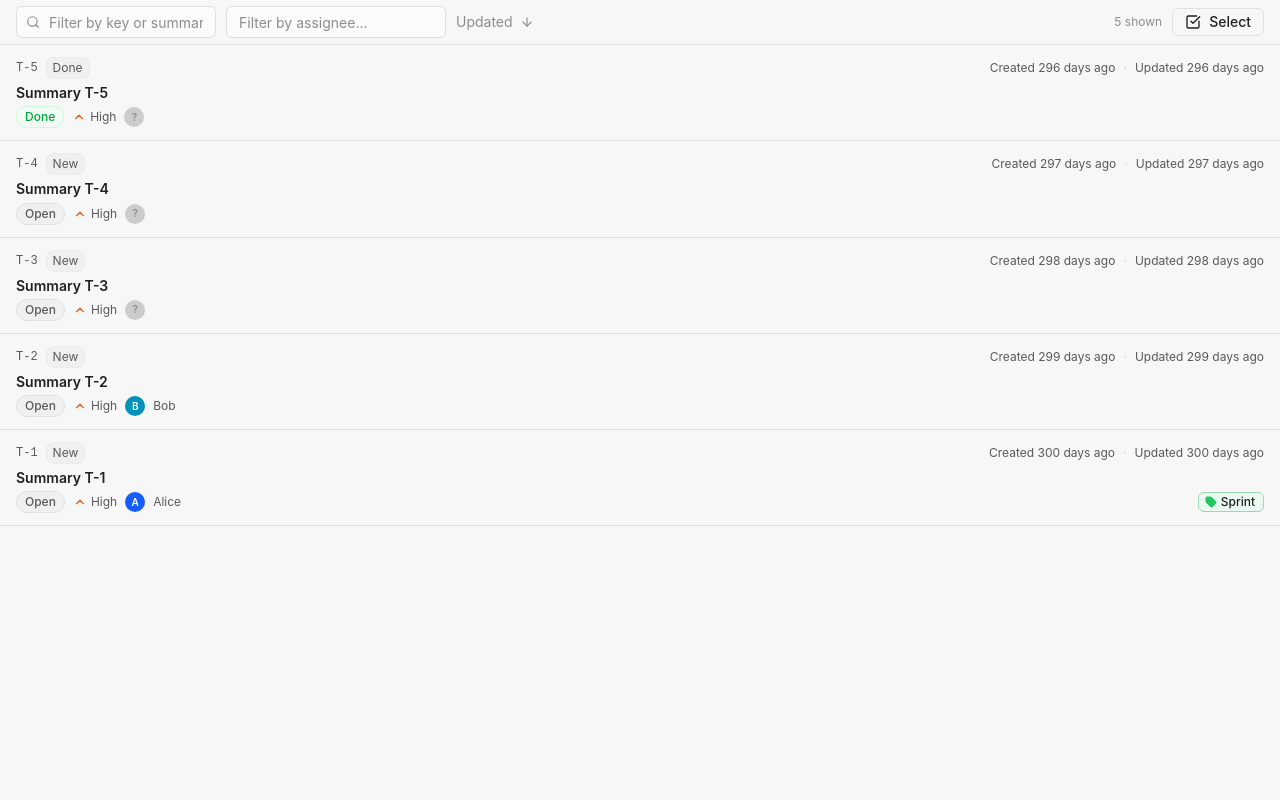
Test: GroupViewPage selection › offers Remove and an Add picker that excludes the current group
Click the button "Select". click: (1218, 22)
box: [1172,8,1264,36]
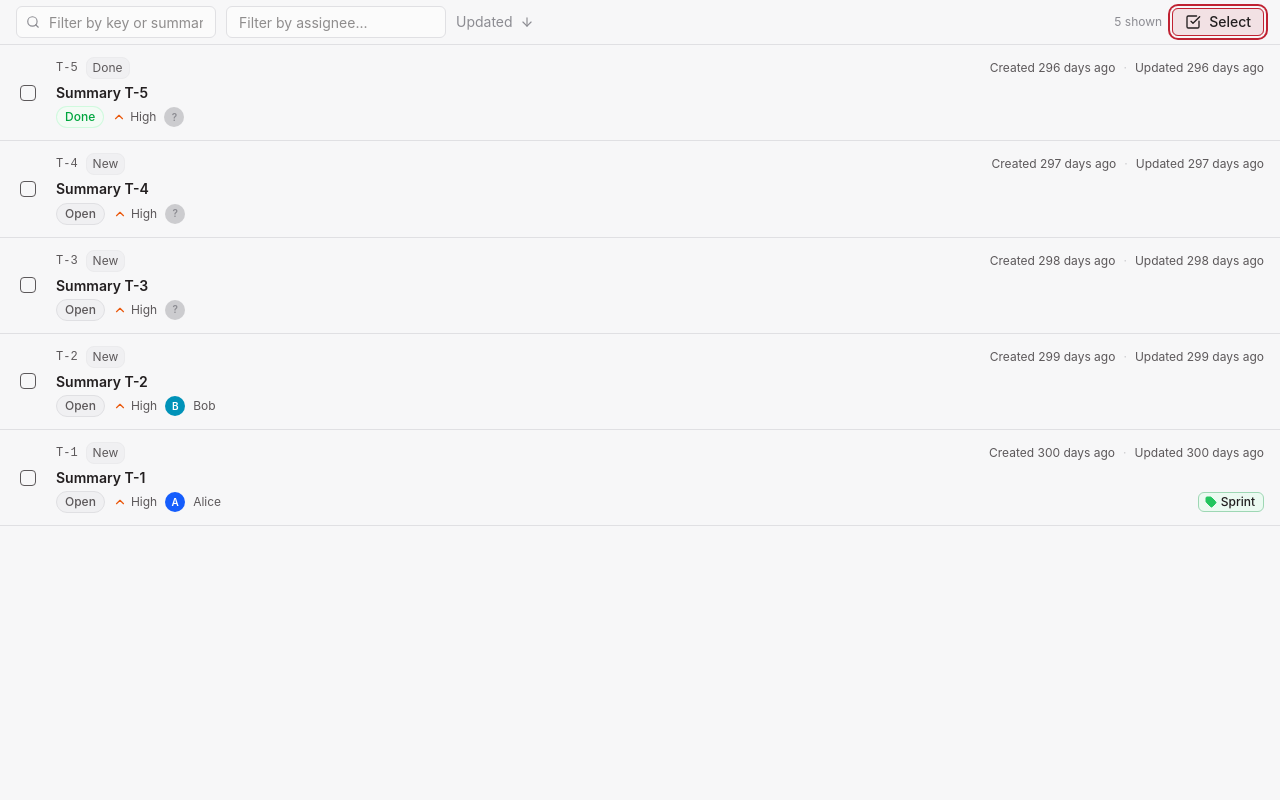
Click the button named "Summary T-1". click: (640, 478)
box: [0,430,1279,525]
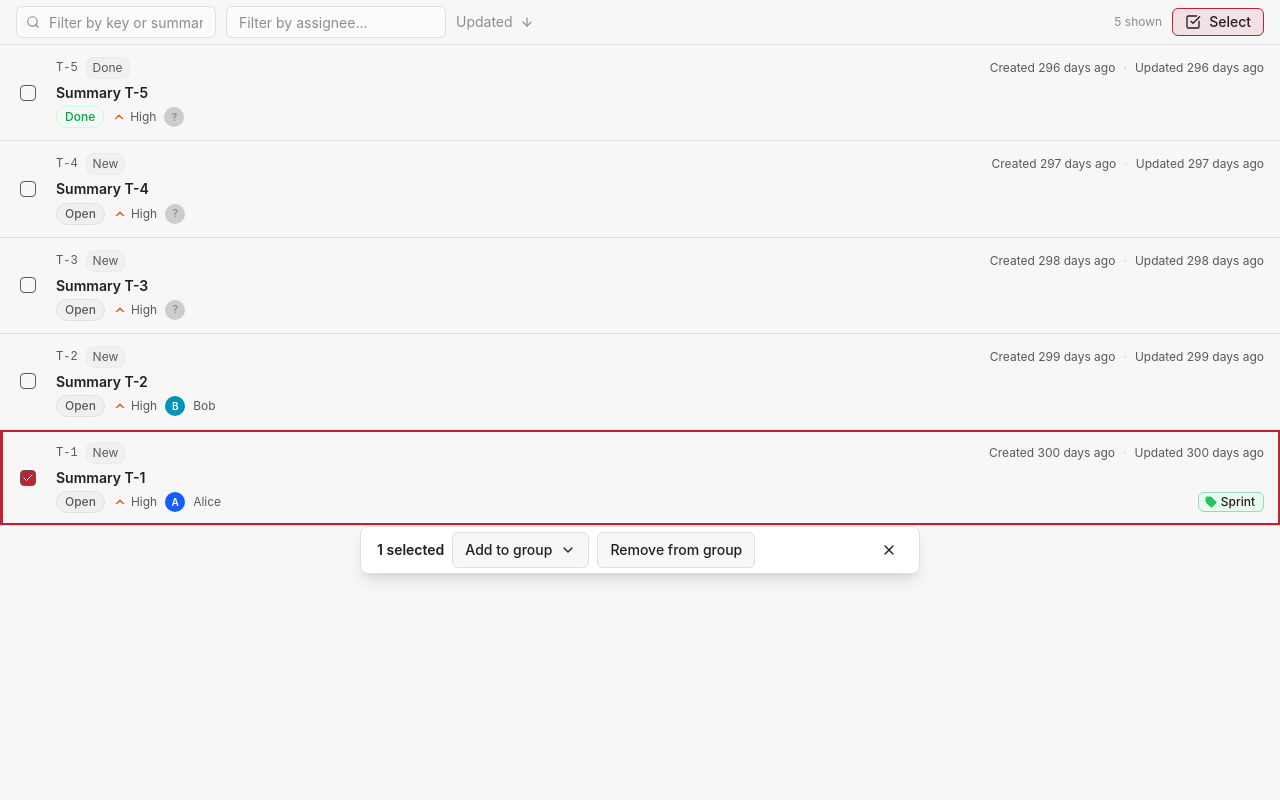
Click the button named "Summary T-3". click: (640, 285)
box: [0,238,1279,333]
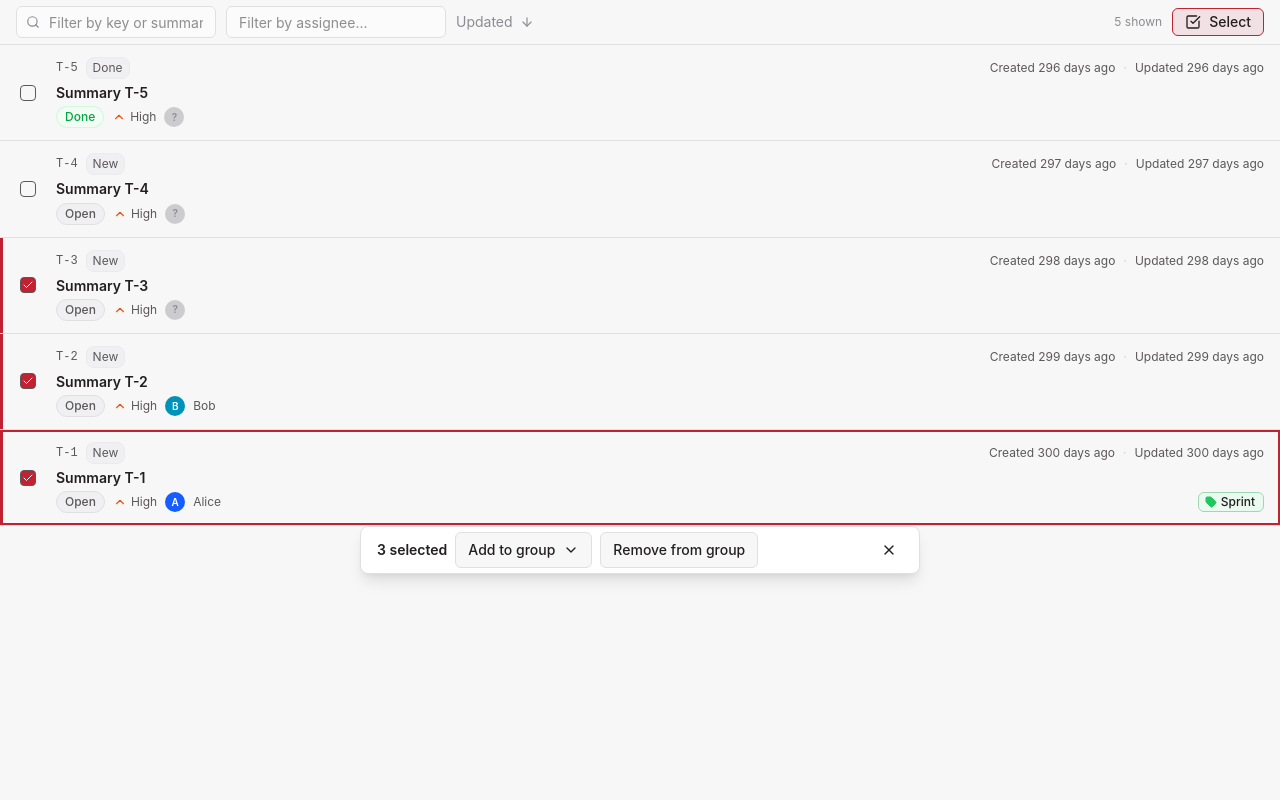
Check: the button "Remove from group" is shown, box [600,532,758,568]
Check: the text "3 selected" is shown, box [377,540,447,560]
Click the button "Add to group". click: (524, 550)
box: [455,532,592,568]
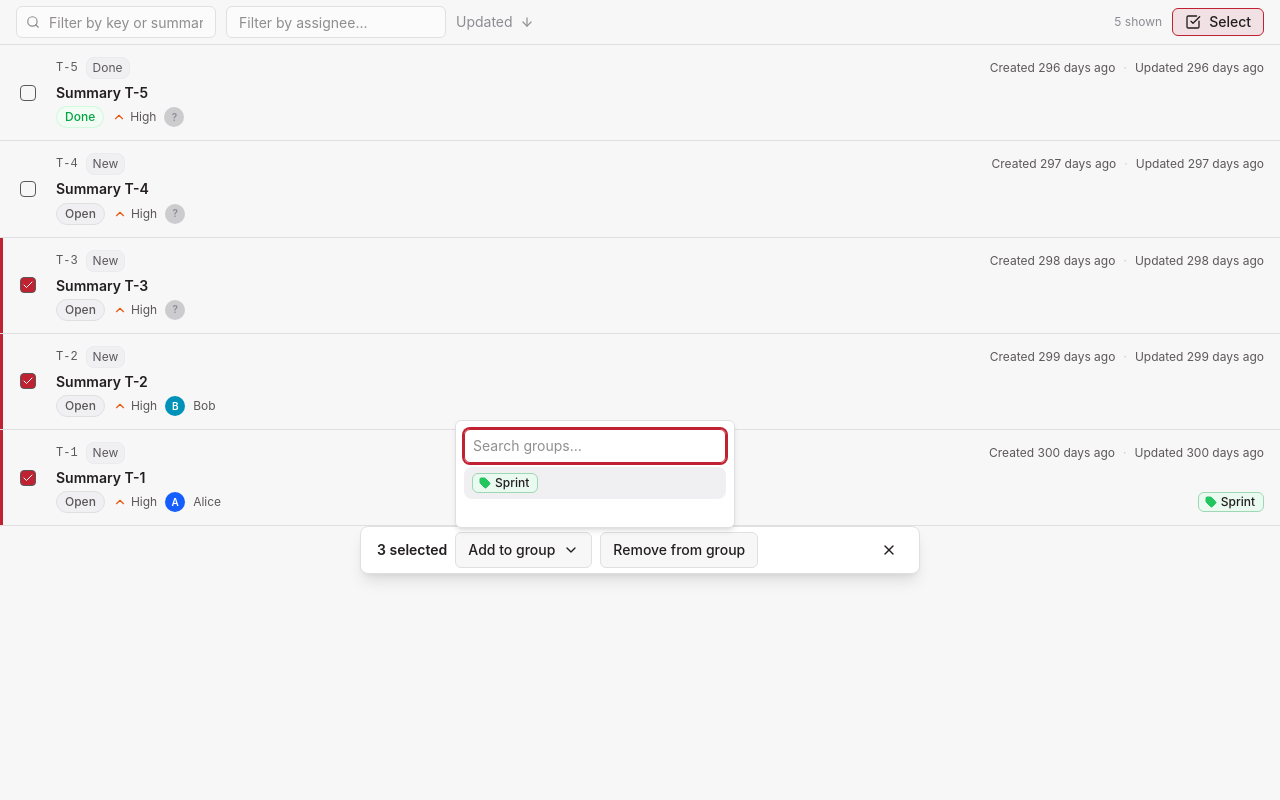
Check: the option "Sprint" is shown, box [464,467,726,499]
